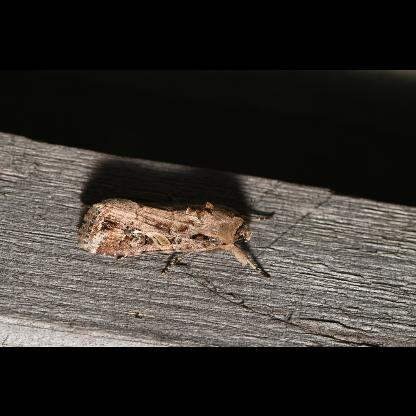Fall Armyworm Moth: (76, 195, 280, 281)
